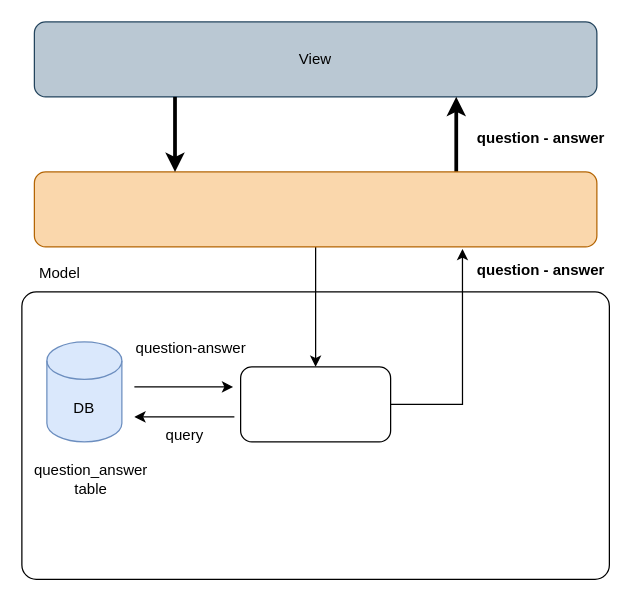
Image size: 644x601. Some labels were removed from this diagram. The shapes that lost their labels are listed below. From the top down, each one's centre as x and y in pixels, then its label:
At pixel 315 209: "Controller - lucky action".
At pixel 315 404: "Query for a random known question and asnwer".
